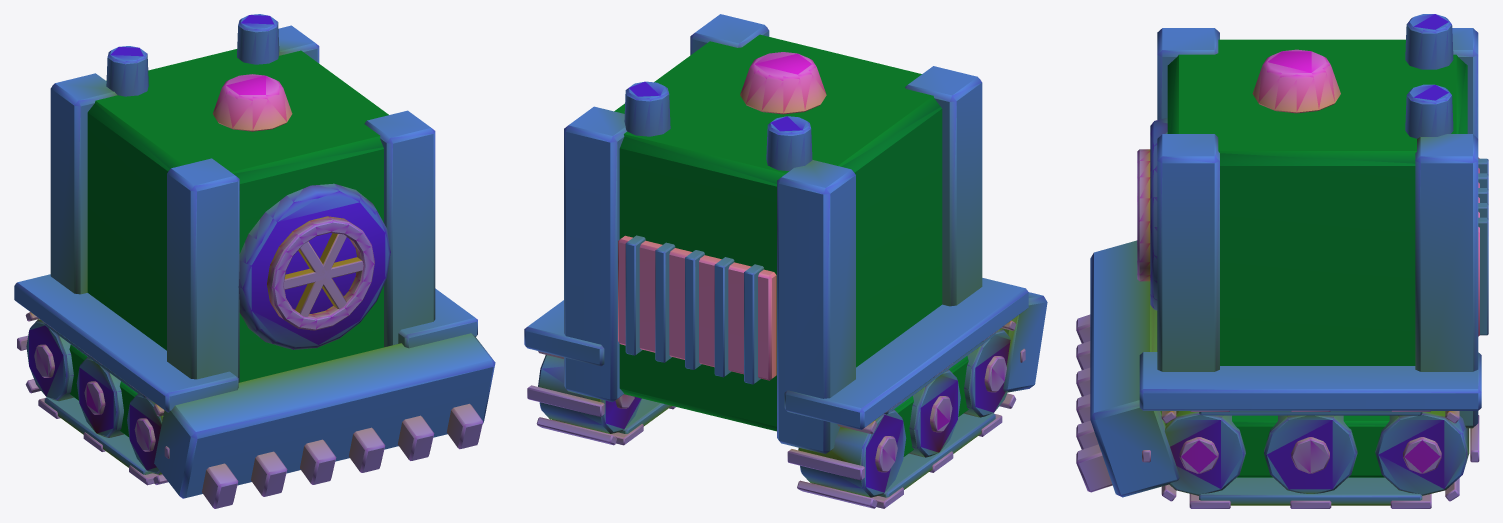
File: SM_Enemy_Tank.fbx
The picture shows the model from 3 angles, left to right: view 1: azimuth 30°, elevation 25°; view 2: azimuth 150°, elevation 25°; view 3: azimuth 270°, elevation 25°; orthographic projection. The views are drawn at different scales.
Parts seen in each view (by area): view 1: SM_Enemy_Tank; view 2: SM_Enemy_Tank; view 3: SM_Enemy_Tank.
Part boxes in pixels (x1,y1,x2,y2): SM_Enemy_Tank: (14, 14, 495, 508); SM_Enemy_Tank: (524, 14, 1047, 508); SM_Enemy_Tank: (1076, 14, 1488, 508).
Bounding box in the file's own units: 1.15 × 1.17 × 1.18.
